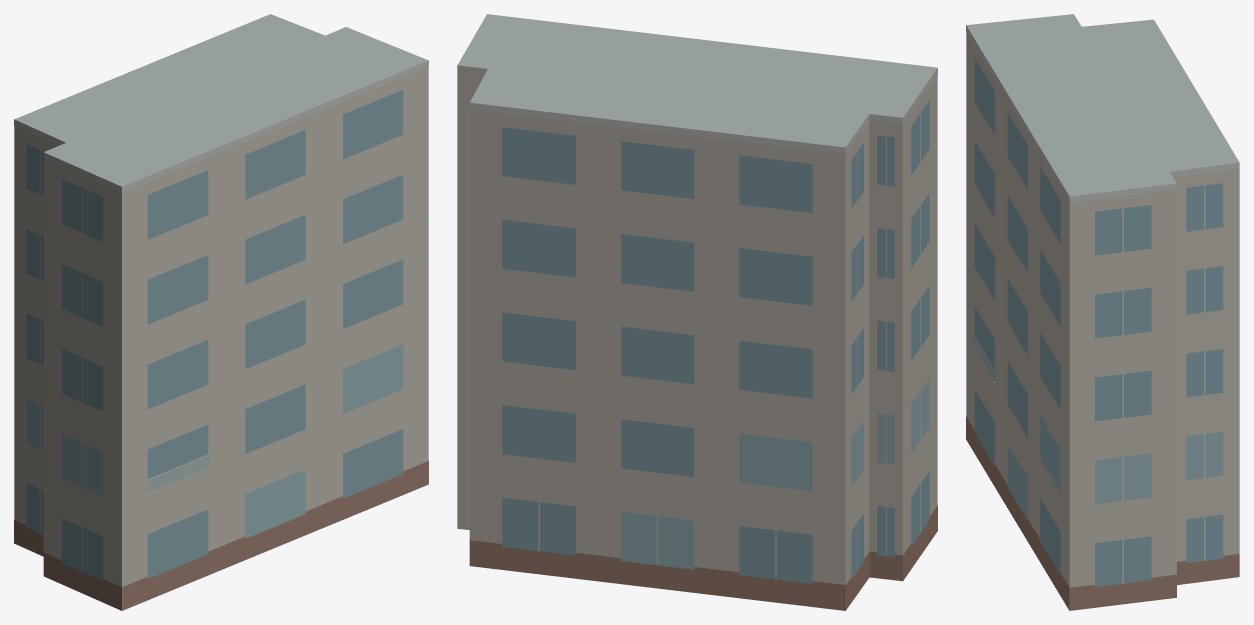
File: survey-upis-32830434.glb
3 views of the same model, side by side, from view 1: azimuth 30°, elevation 25°; view 2: azimuth 150°, elevation 25°; view 3: azimuth 270°, elevation 25° (orthographic). The views are drawn at different scales.
Visible parts, largest first — view 1: survey-upis-32830434.tmp; view 2: survey-upis-32830434.tmp; view 3: survey-upis-32830434.tmp.
Part boxes in pixels (x1,y1,x2,y2): survey-upis-32830434.tmp: (14, 14, 428, 610); survey-upis-32830434.tmp: (457, 14, 937, 610); survey-upis-32830434.tmp: (966, 14, 1239, 610).
Size of the model in its own units: 15.79 by 16.7 by 10.
